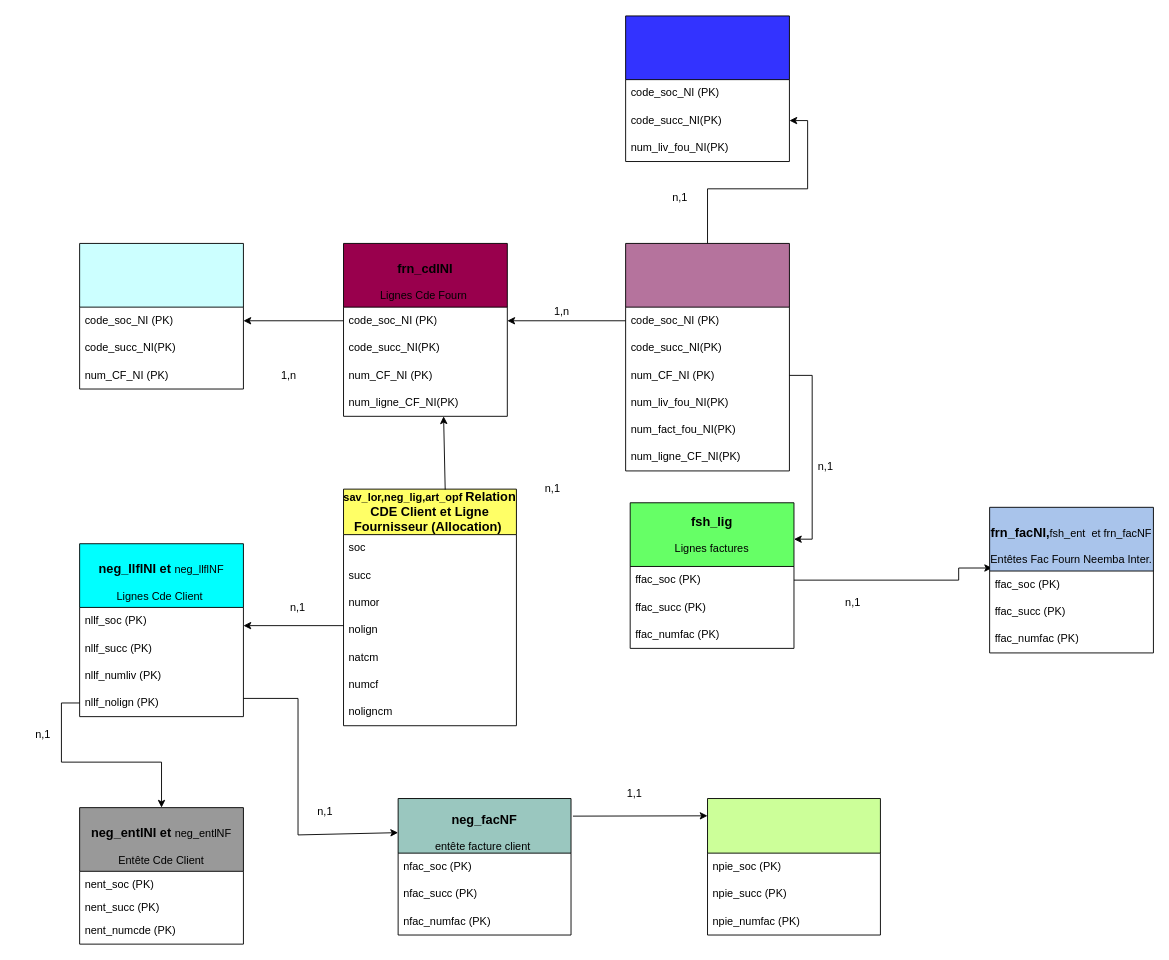
Some shapes in this 1169 by 960 pixel diagram are drawn without their labels. Here are the shapes that lost their labels. From the top down, the box of each, then its label:
(625, 15, 789, 162): frn_livNI Entêtes Liv Fourn.
(79, 243, 243, 389): frn_cdeNI Entête Cde Fourn
(625, 243, 789, 471): frn_llfNI et frn_llfNF Lignes Liv Fourn .
(707, 798, 880, 935): neg_pieNF pied facture client
